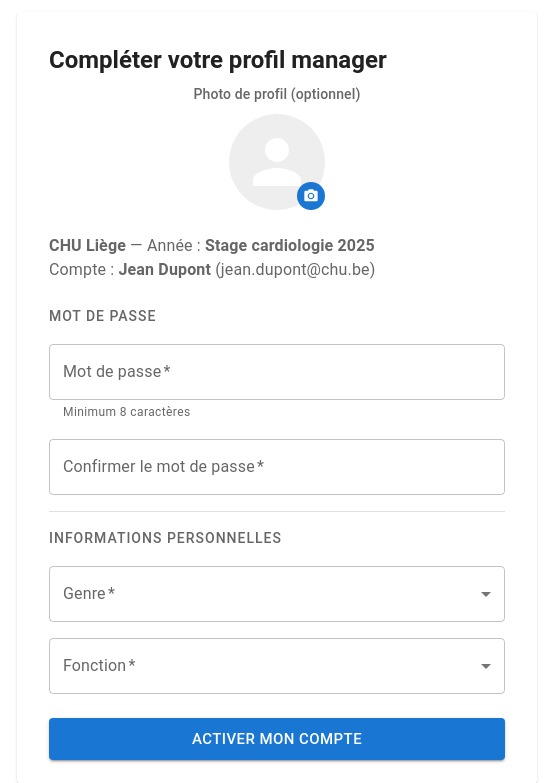
it: ManagerSetupPage › shows error when sexe is not selected
Type "Secure123" into the password field labelled "Mot de passe *" at (277, 372), box [49, 344, 505, 400]
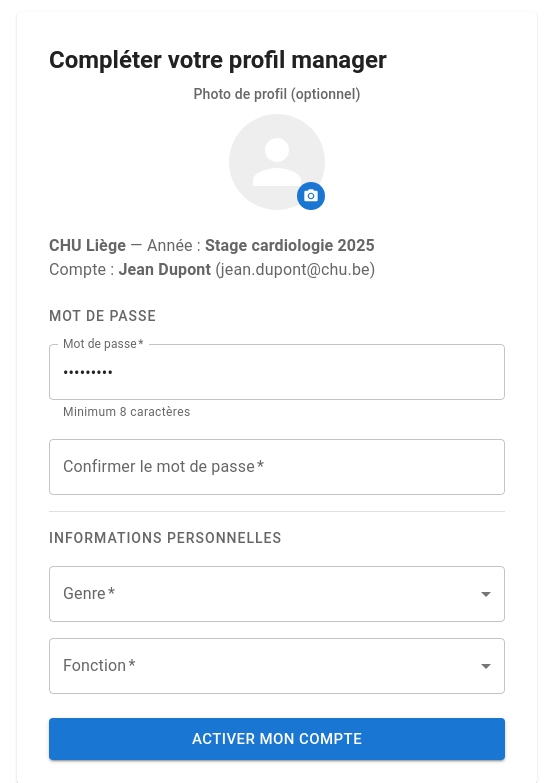
Type "Secure123" into the password field labelled "Confirmer le mot de passe *" at (277, 467), box [49, 439, 505, 495]
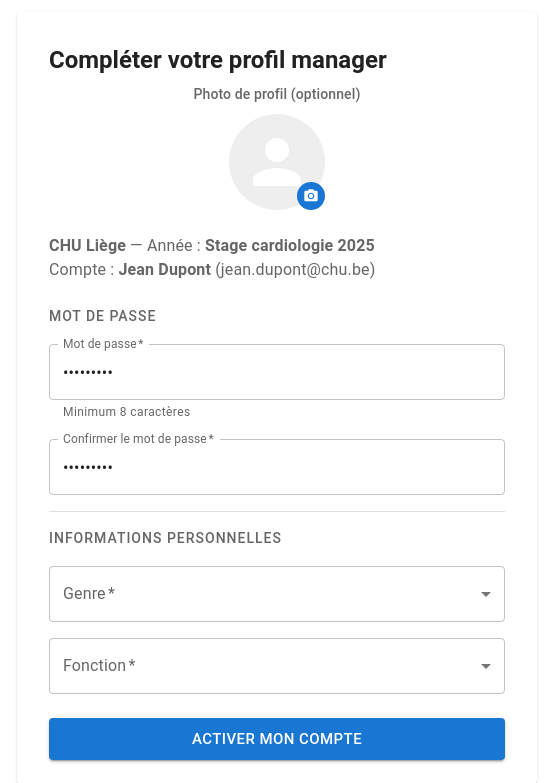
# leave sexe empty, submit
Submit the form named "Activer", box [49, 306, 505, 760]
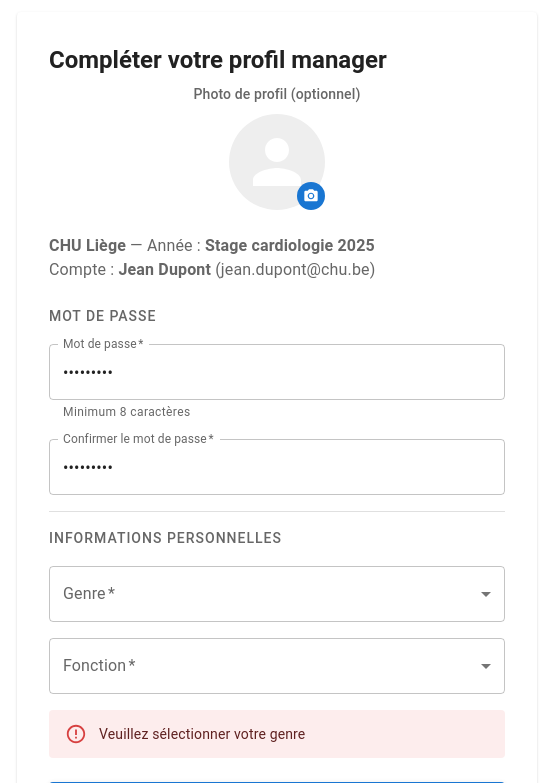
expect the text "Veuillez sélectionner votre genre" is shown: met, box [99, 726, 306, 742]
